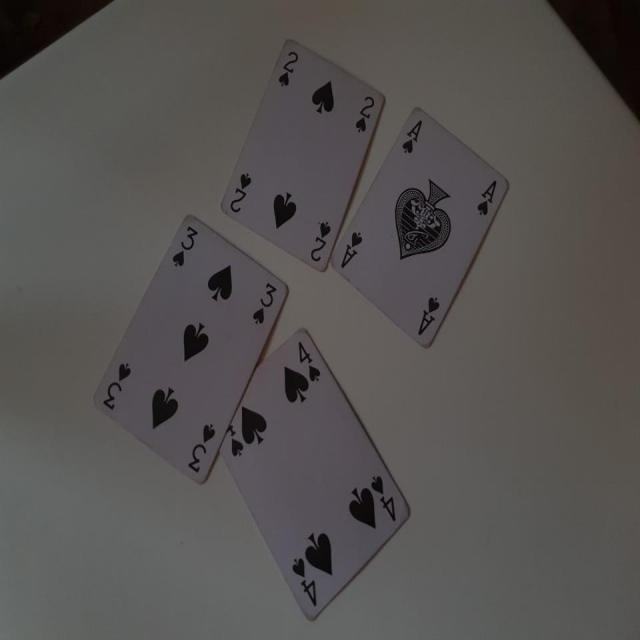2 Spades: (228, 51, 378, 268)
3 Spades: (96, 220, 279, 476)
4 Spades: (225, 332, 401, 618)
A Spades: (335, 113, 505, 340)
